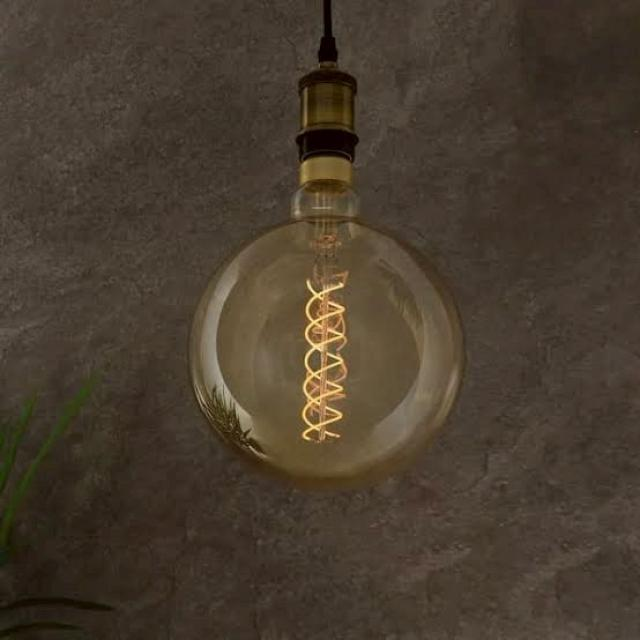bulb: (190, 0, 460, 481)
